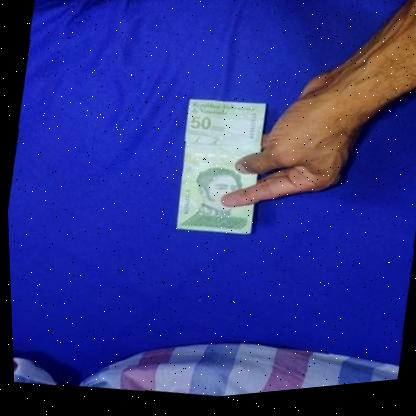fifty-front-vef: (164, 94, 270, 246)
